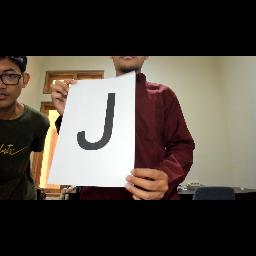j: (73, 90, 119, 152)
